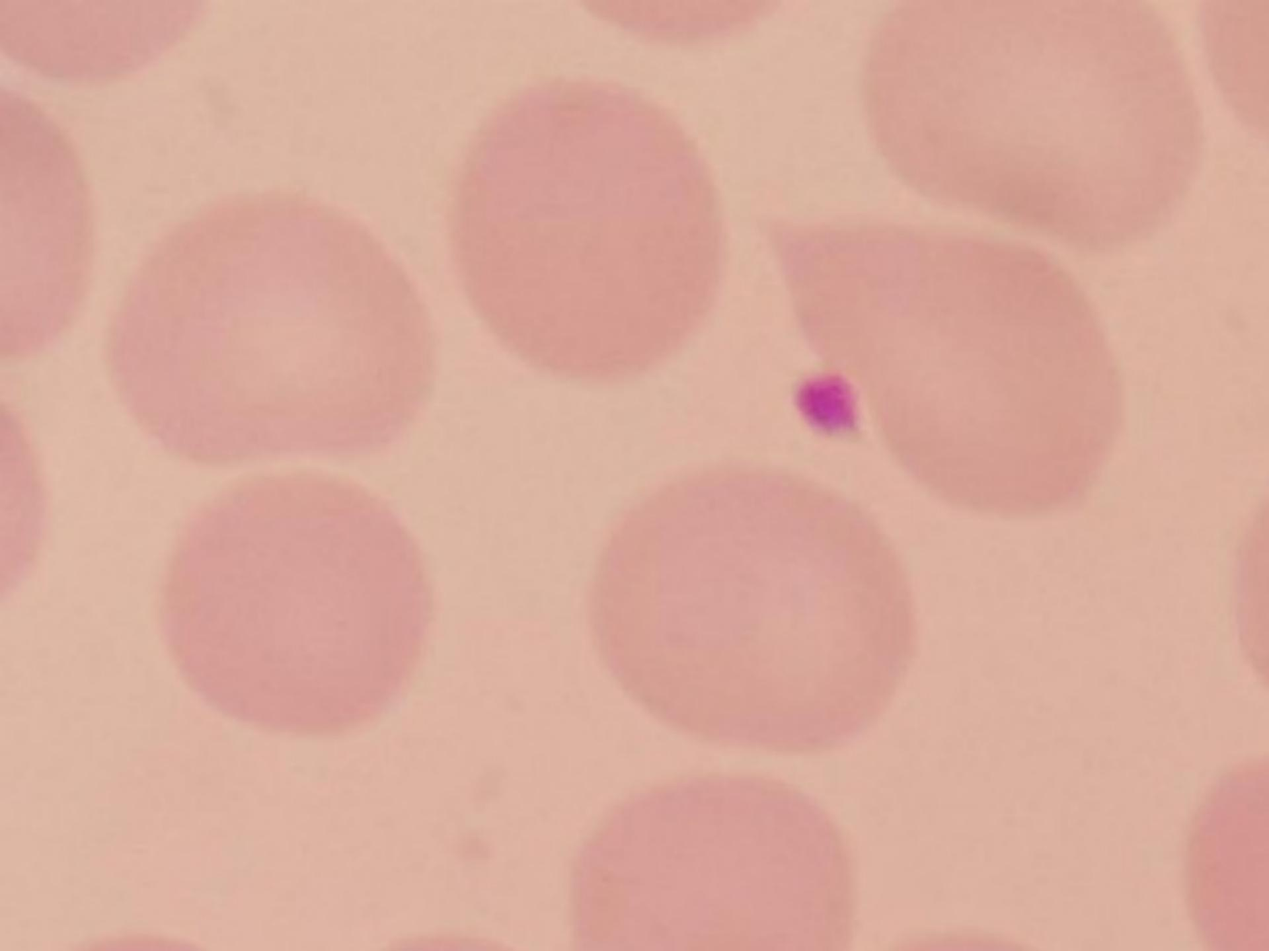Uninfected: (758, 224, 1111, 510), (598, 466, 910, 755), (864, 0, 1202, 254), (116, 190, 424, 461), (454, 81, 724, 378), (164, 476, 430, 734), (570, 774, 855, 951)
